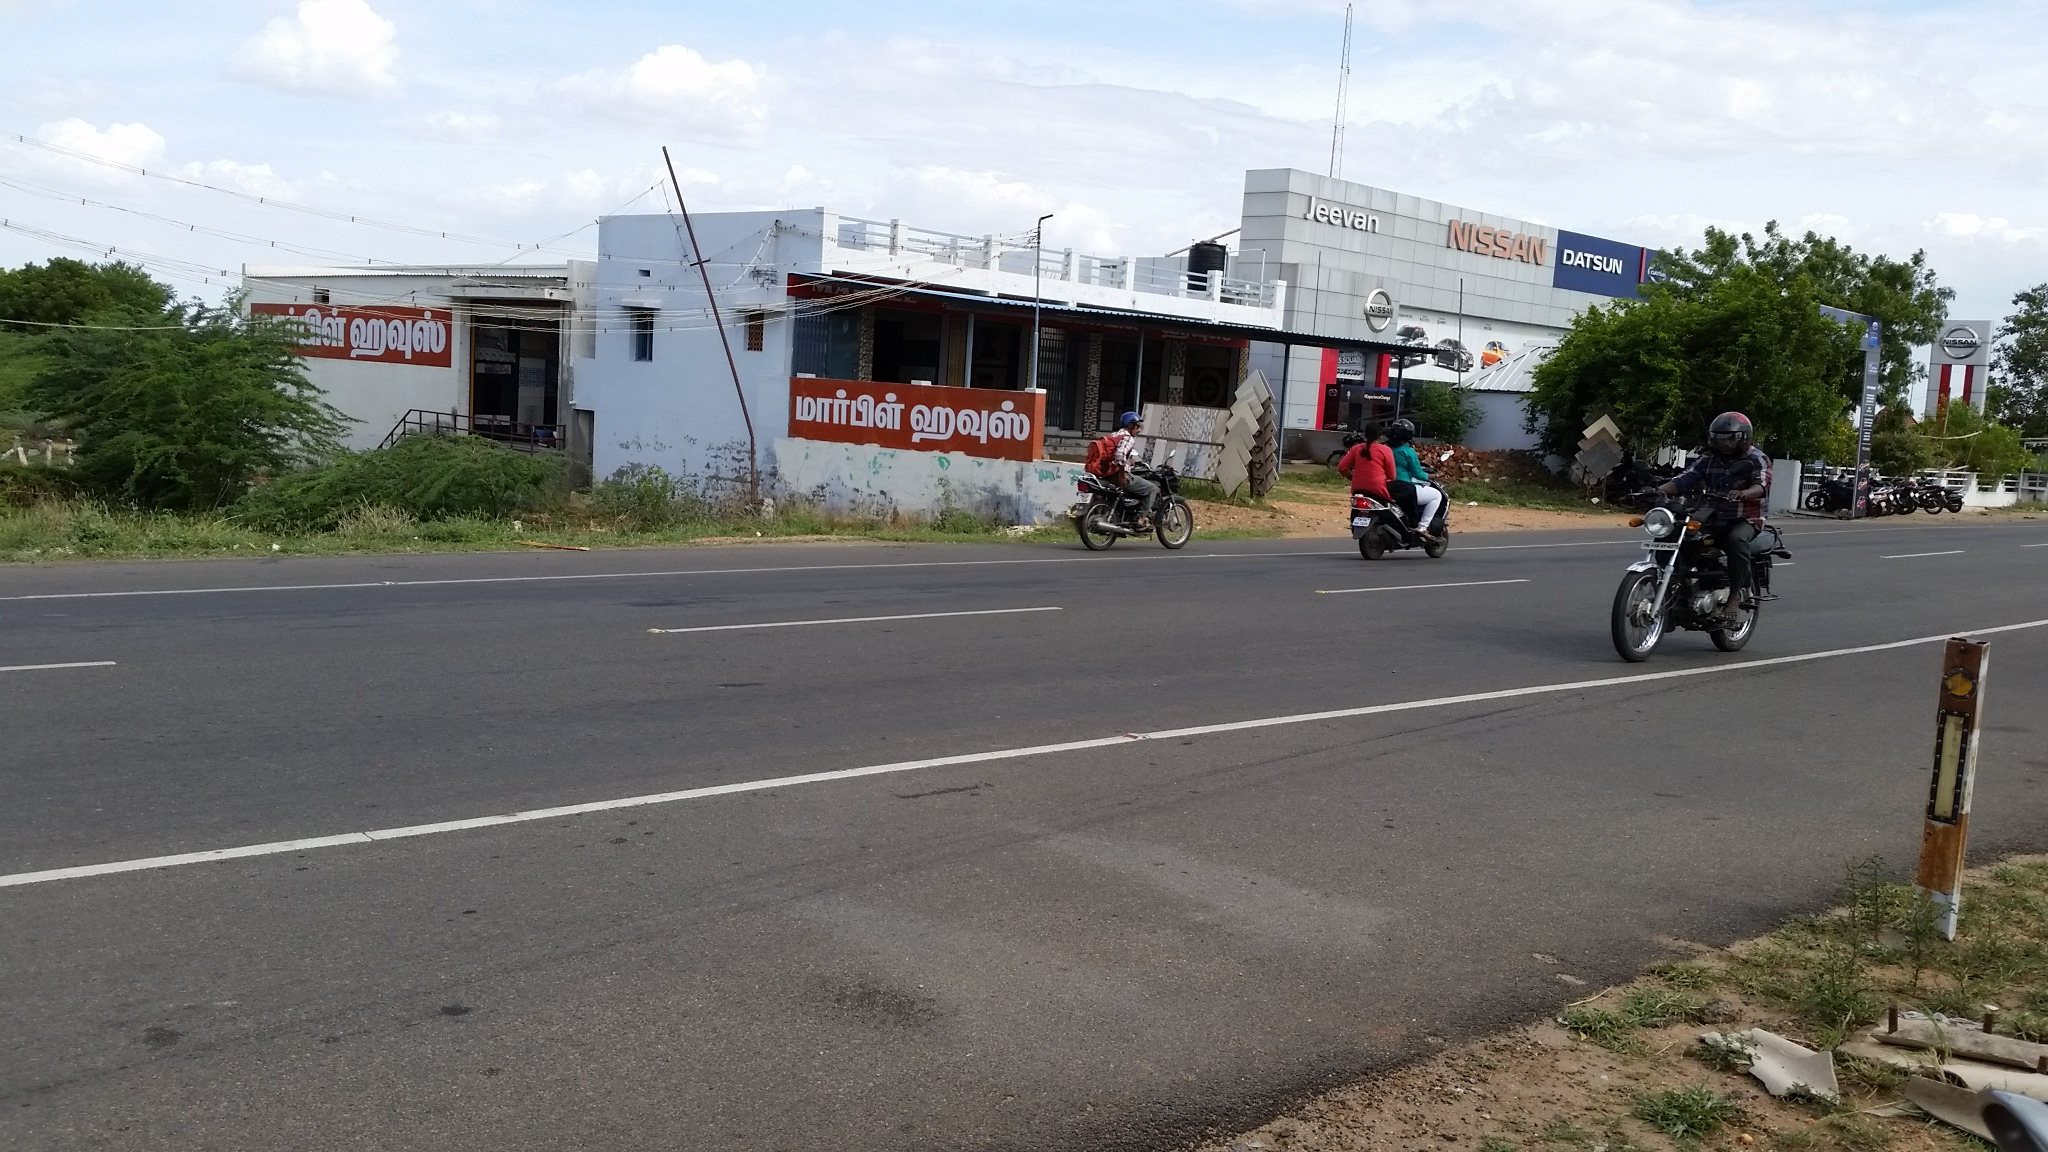biker: (1562, 366, 1834, 679), (1304, 356, 1488, 582), (1033, 373, 1220, 585)
helmet: (1702, 400, 1762, 468), (1113, 401, 1151, 440), (1386, 408, 1424, 447)
nohelmet: (1359, 415, 1392, 450)
